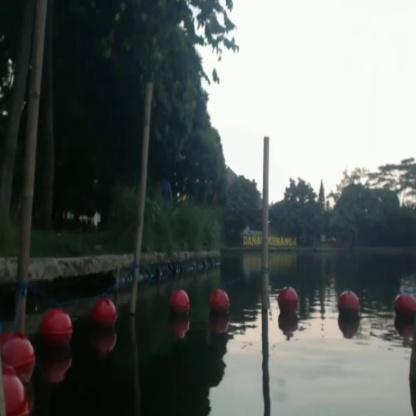red_buoy: (43, 308, 69, 350), (4, 367, 27, 414), (391, 287, 415, 332), (92, 299, 116, 339), (336, 288, 360, 328), (208, 286, 230, 326), (276, 285, 300, 321), (171, 290, 190, 328), (10, 339, 32, 371)
